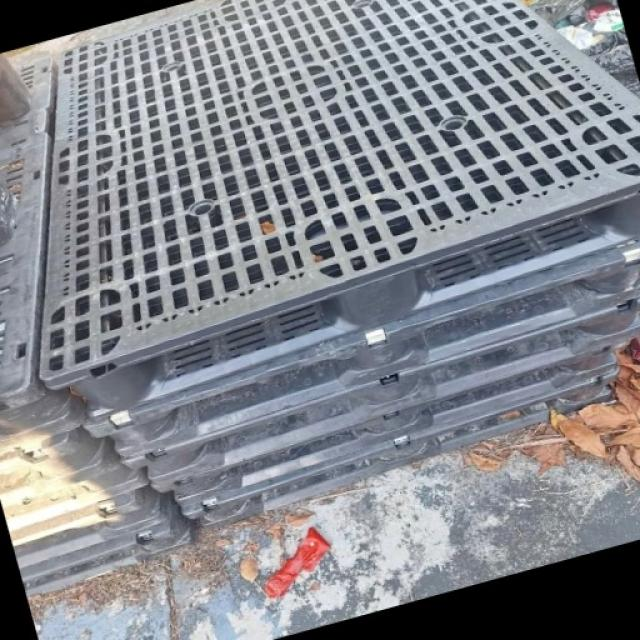non-igps: (36, 0, 640, 428), (78, 229, 639, 468), (115, 289, 639, 497), (143, 329, 639, 525), (171, 358, 625, 537), (0, 24, 89, 455), (12, 484, 202, 605), (5, 463, 178, 574), (0, 381, 132, 518), (0, 431, 155, 539)
